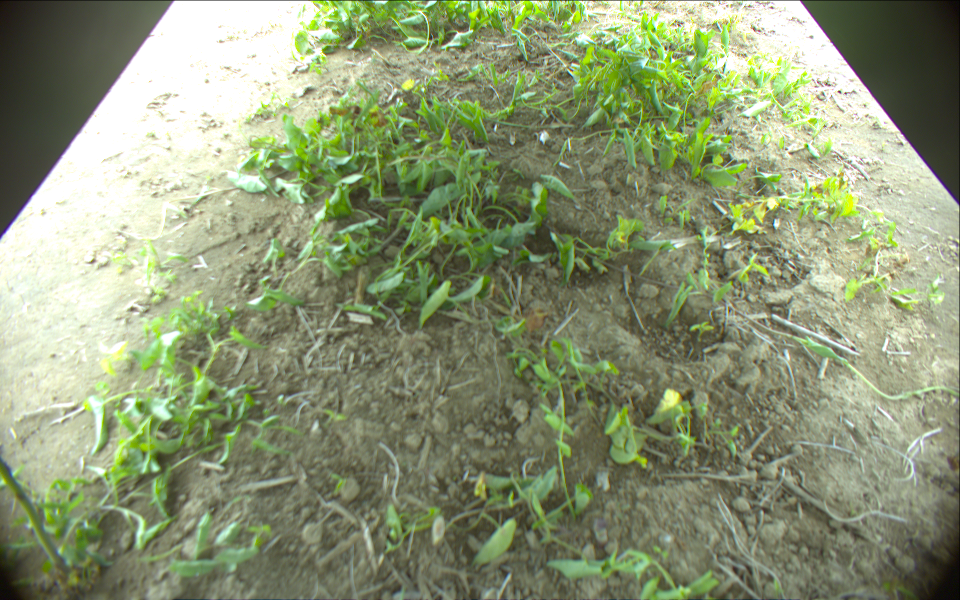aspa: (1, 460, 74, 599)
